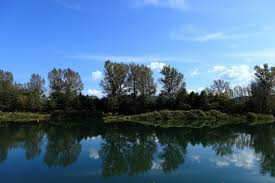lake: (3, 119, 273, 183)
sky: (2, 1, 275, 74)
tree: (1, 68, 47, 112), (233, 65, 275, 109), (42, 65, 83, 109), (92, 63, 133, 107), (122, 64, 163, 108), (151, 62, 192, 106)
